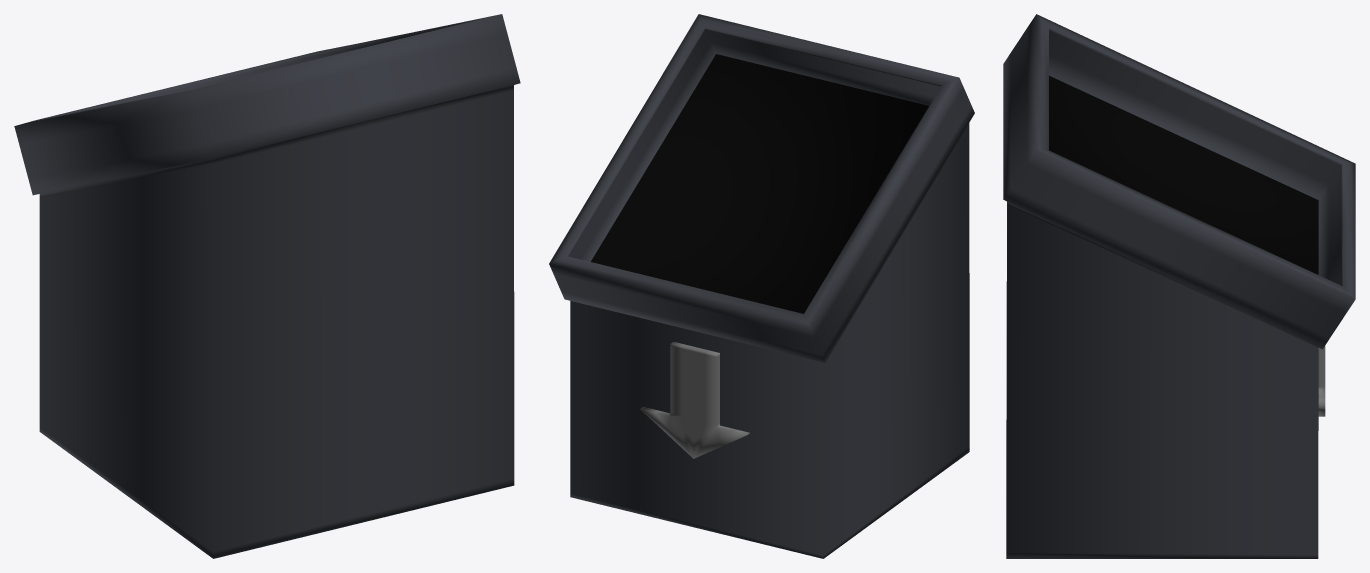
File: itemDropBox.fbx
3 views of the same model, side by side, from view 1: azimuth 30°, elevation 25°; view 2: azimuth 150°, elevation 25°; view 3: azimuth 270°, elevation 25° (orthographic). The views are drawn at different scales.
Parts seen in each view (by area): view 1: itemDropBox; view 2: itemDropBox; view 3: itemDropBox.
Boxes of the visible parts, x1,y1,x2,y2 form: itemDropBox: (14,14,520,558); itemDropBox: (549,14,974,558); itemDropBox: (1003,14,1355,558).
Bounding box in the file's own units: 226 × 206 × 291.
